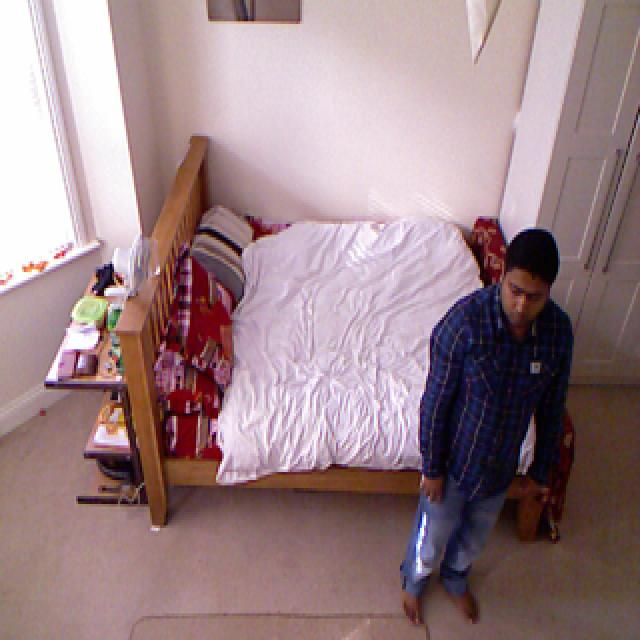standing: (408, 220, 580, 632)
